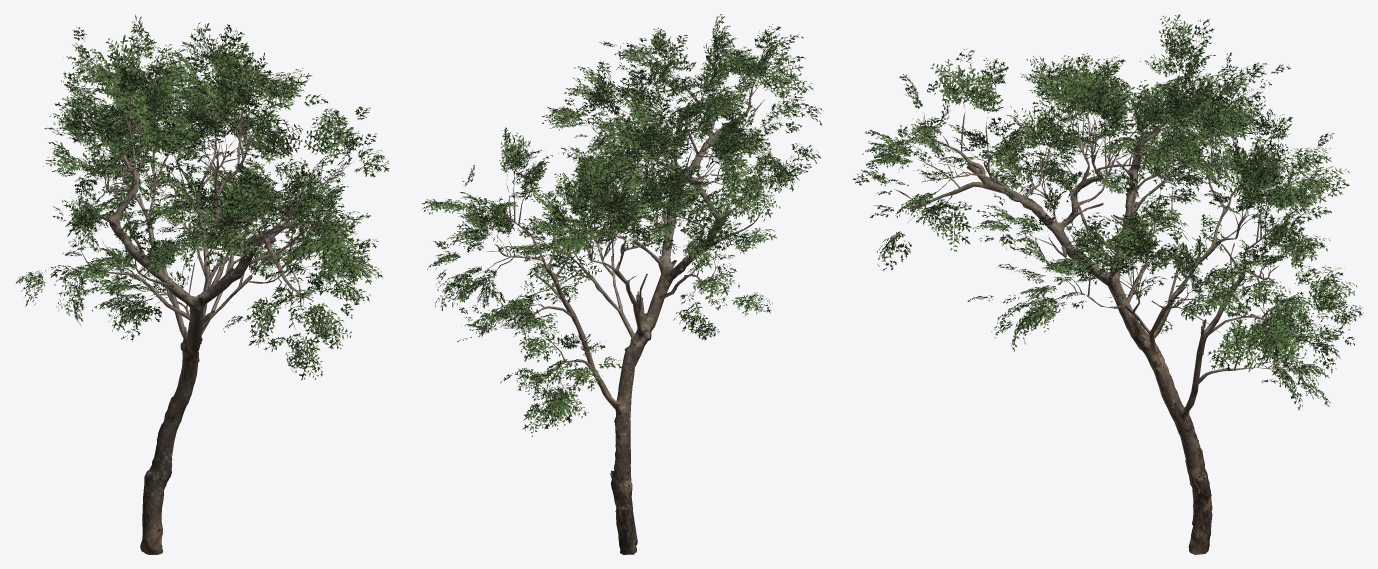
The model's file is tree-small-02.glb.
3 views of the same model, side by side, from view 1: azimuth 30°, elevation 25°; view 2: azimuth 150°, elevation 25°; view 3: azimuth 270°, elevation 25° (orthographic). The views are drawn at different scales.
Parts seen in each view (by area): view 1: tree_small_02_LOD0; view 2: tree_small_02_LOD0; view 3: tree_small_02_LOD0.
Part boxes in pixels (x1,y1,x2,y2): tree_small_02_LOD0: (16,14,389,554); tree_small_02_LOD0: (421,14,823,554); tree_small_02_LOD0: (853,14,1363,554).
Size of the model in its own units: 2.91 by 4.56 by 4.23.
3 materials, 3 textured.
